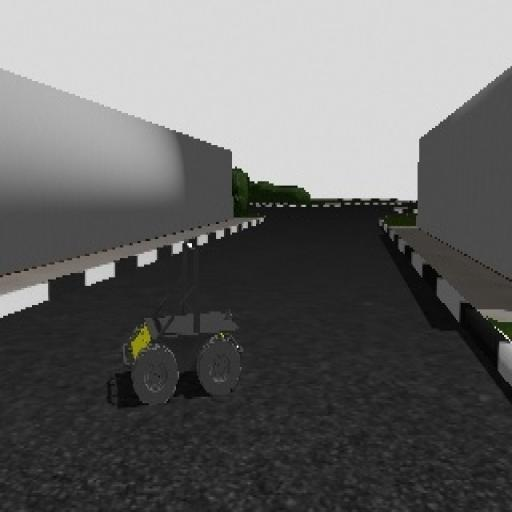huskya200: (115, 238, 253, 412)
